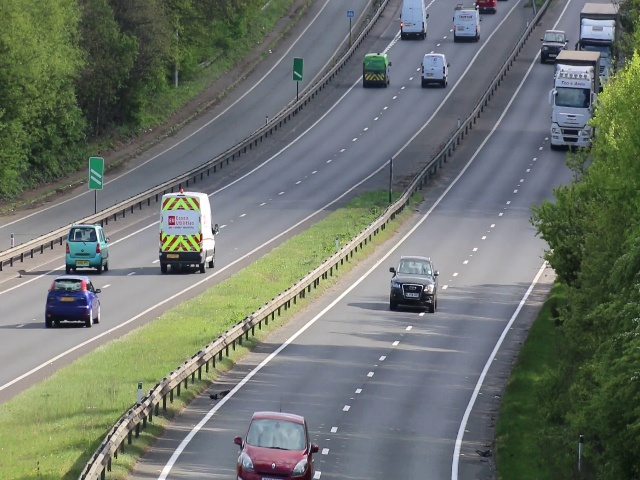car: (236, 414, 312, 480), (158, 192, 216, 273), (41, 275, 101, 326), (387, 256, 441, 312), (552, 66, 586, 148), (68, 223, 109, 272), (358, 53, 395, 90), (420, 51, 448, 90), (451, 8, 480, 43), (399, 1, 428, 36), (538, 26, 566, 62)
